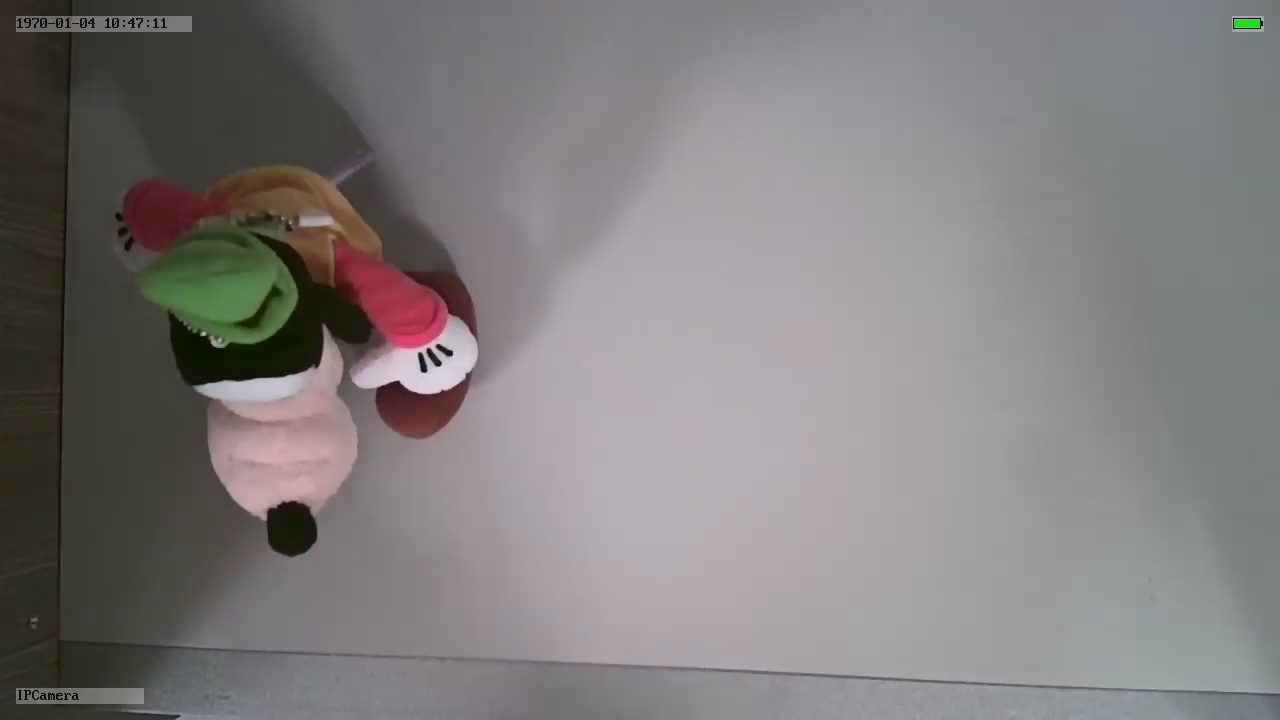goofy: (109, 153, 486, 556)
